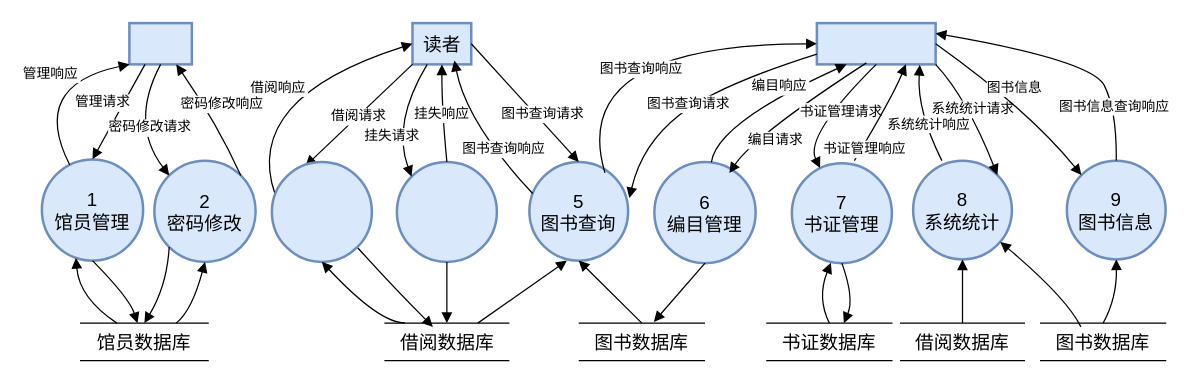
The diagram is 1191 pixels wide and 383 high, and some of its shapes have lost their labels. The centre of each missing label's shape, as x and y in pixels:
3 借还管理: [321,211]
4 图书挂失: [446,211]
系统管理员: [875,43]
馆员: [160,43]
